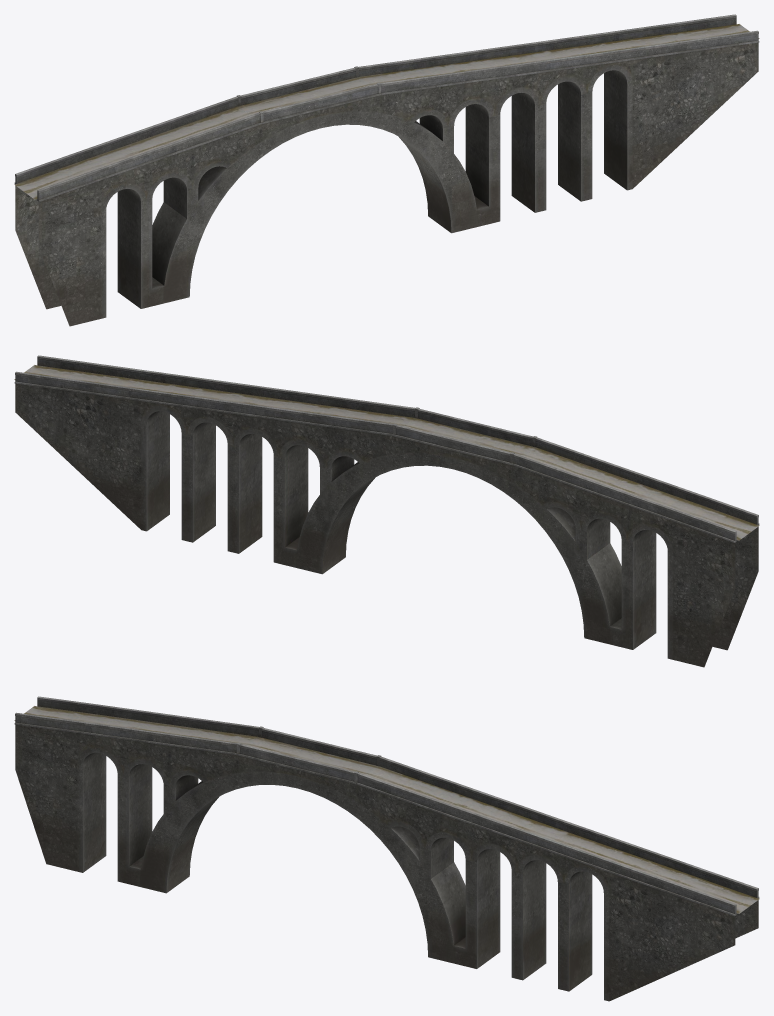
Rendered from stone_bridge.glb.
The picture shows the model from 3 angles, top to bottom: view 1: azimuth 30°, elevation 25°; view 2: azimuth 150°, elevation 25°; view 3: azimuth 330°, elevation 25°; orthographic projection.
Parts seen in each view (by area): view 1: Stone_Bridge_1911_0; view 2: Stone_Bridge_1911_0; view 3: Stone_Bridge_1911_0.
Boxes of the visible parts, x1,y1,x2,y2 form: Stone_Bridge_1911_0: (14,14,759,326); Stone_Bridge_1911_0: (14,355,759,667); Stone_Bridge_1911_0: (14,696,759,1001).
Bounding box in the file's own units: 71.82 × 15.8 × 4.26.
Materials: 1 (1 with a texture image).
